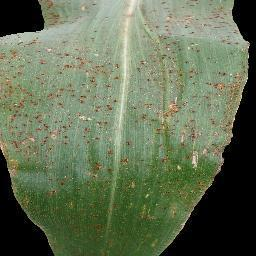Corn_Common_Rust: (0, 0, 239, 256)
